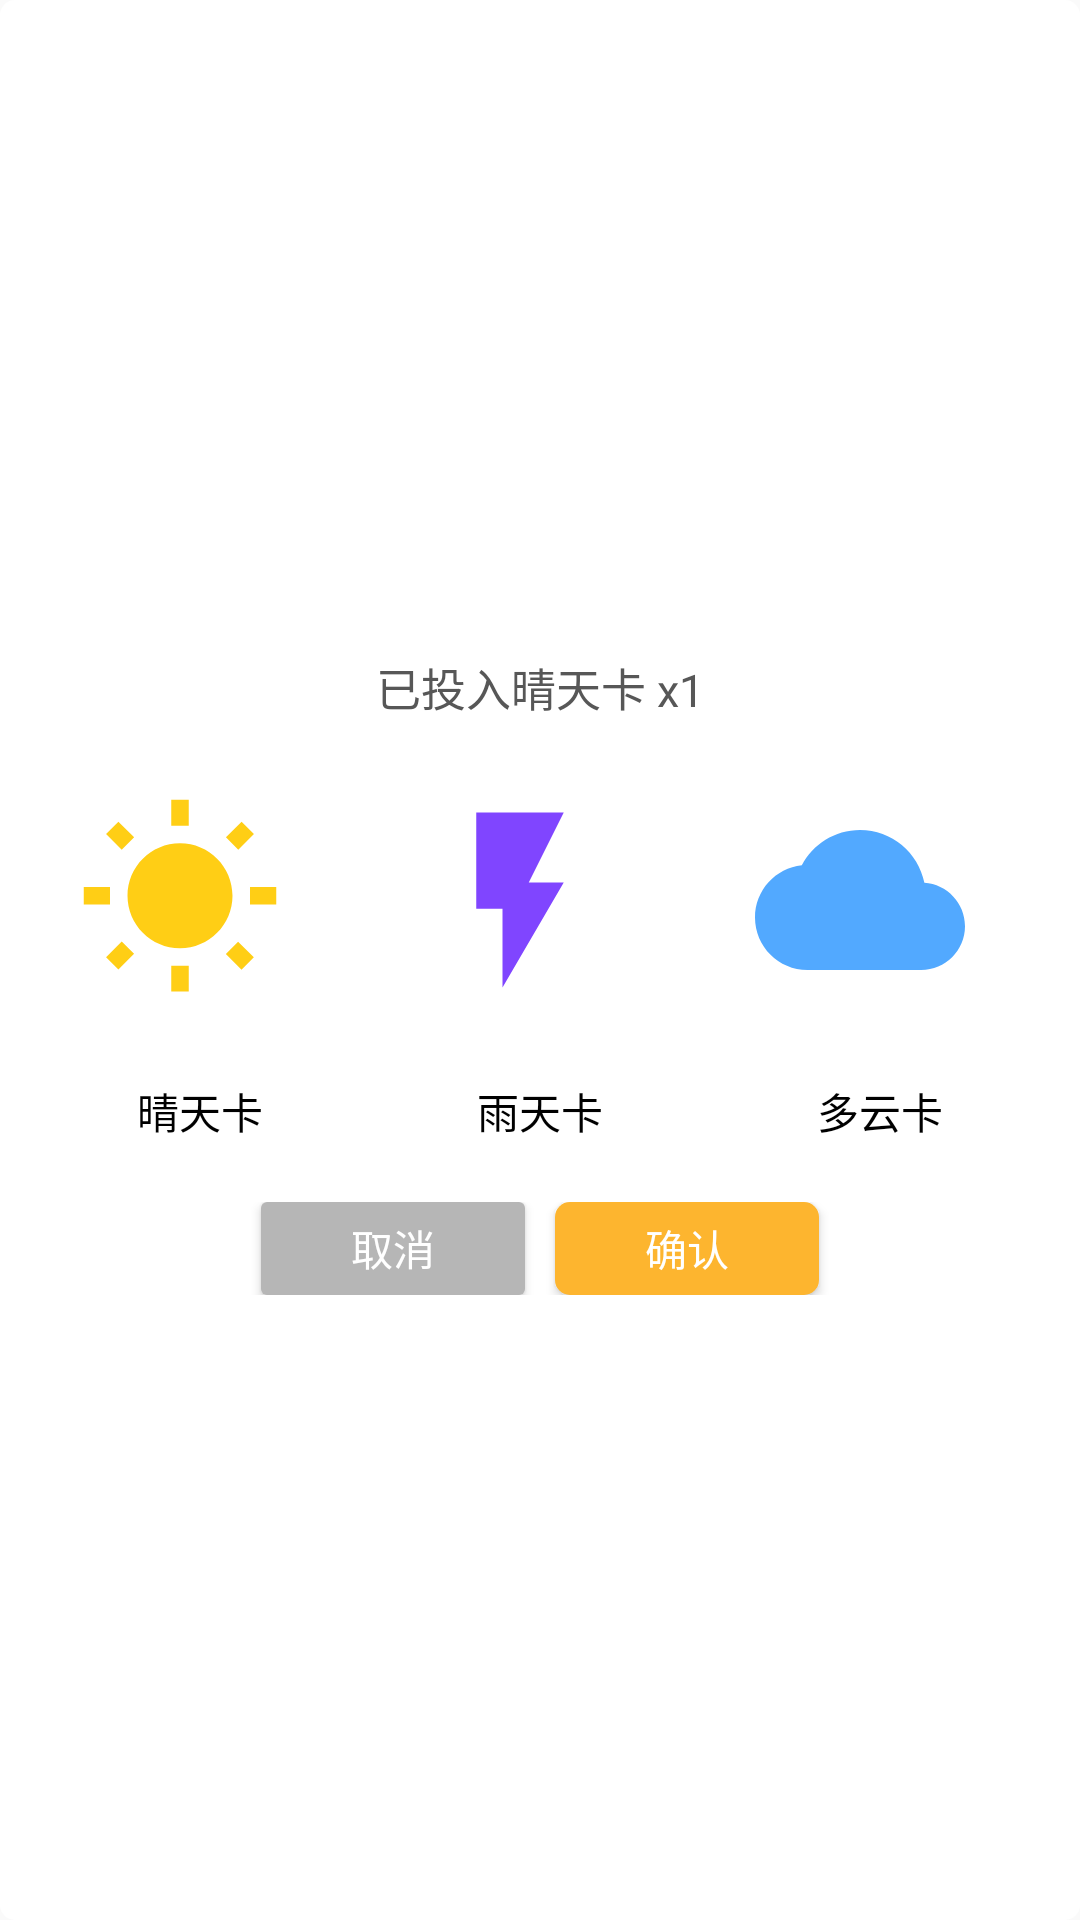

Icon bounding boxes for this 1080×1920 phone screenshot, format (x1, y1, x2, y2):
cloudy: (755, 830, 965, 970)
flash on: (476, 812, 564, 987)
sunny: (83, 799, 277, 992)
